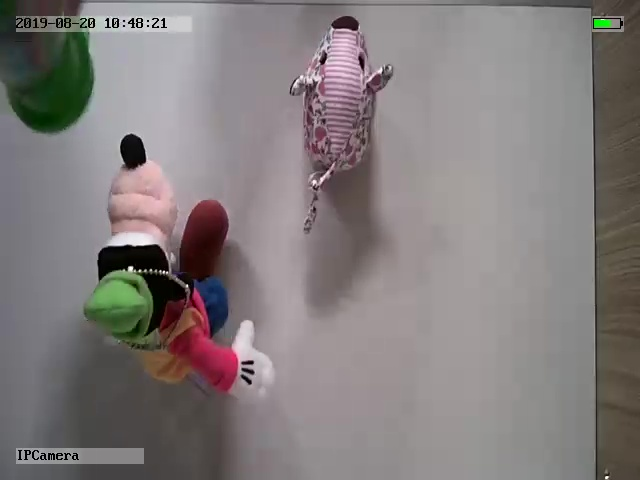goofy: (82, 130, 278, 407)
pig: (287, 13, 395, 235)
